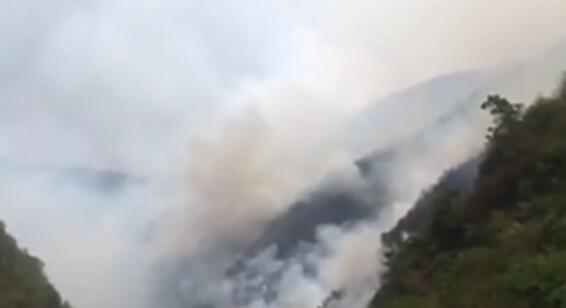yanwu: (1, 1, 388, 306), (313, 1, 566, 213)
